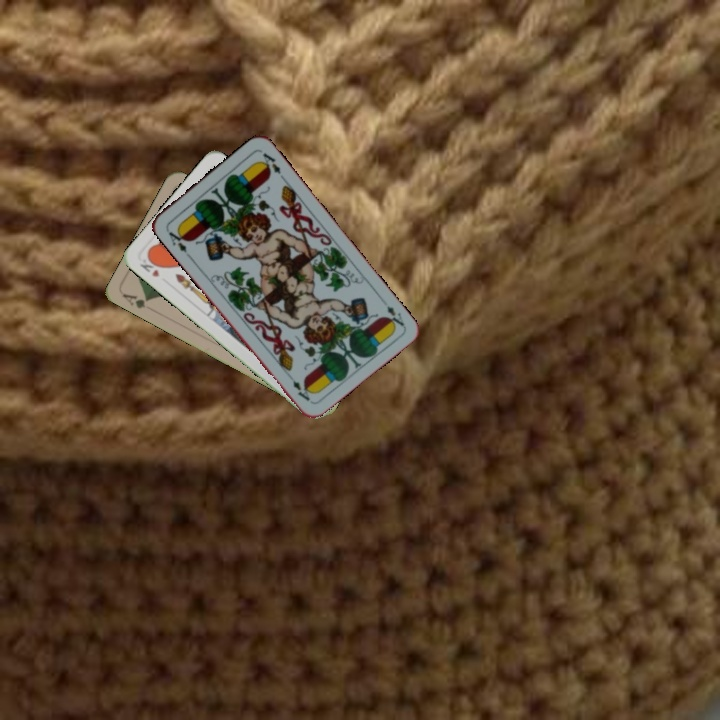EA: (162, 225, 193, 259), (382, 302, 407, 332)
GA: (118, 289, 153, 311)
HK: (136, 255, 162, 280)
